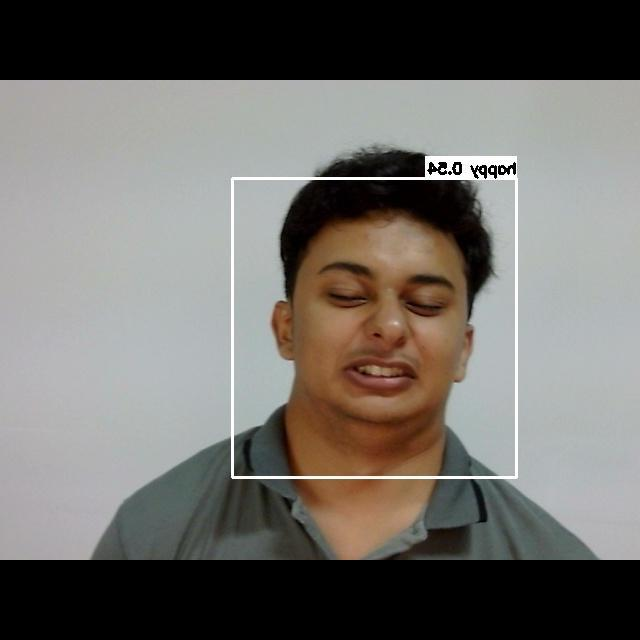Disgust: (287, 242, 479, 426)
